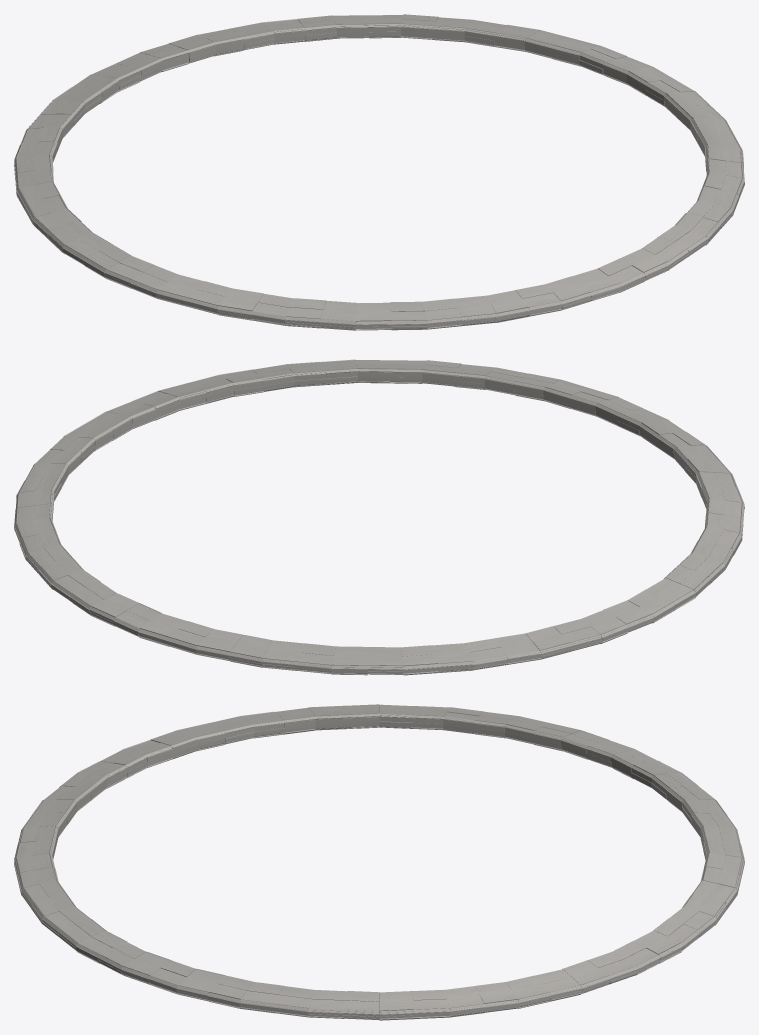
Rendered from 기초링.glb.
3 views of the same model, one above another, from view 1: azimuth 30°, elevation 25°; view 2: azimuth 150°, elevation 25°; view 3: azimuth 270°, elevation 25° (orthographic).
Parts seen in each view (by area): view 1: 기초링_구움; view 2: 기초링_구움; view 3: 기초링_구움.
Boxes of the visible parts, x1,y1,x2,y2 form: 기초링_구움: [14, 14, 744, 330]; 기초링_구움: [14, 359, 744, 675]; 기초링_구움: [14, 704, 744, 1020].
Bounding box in the file's own units: 10.02 × 0.2246 × 10.03.
1 material, 1 textured.
